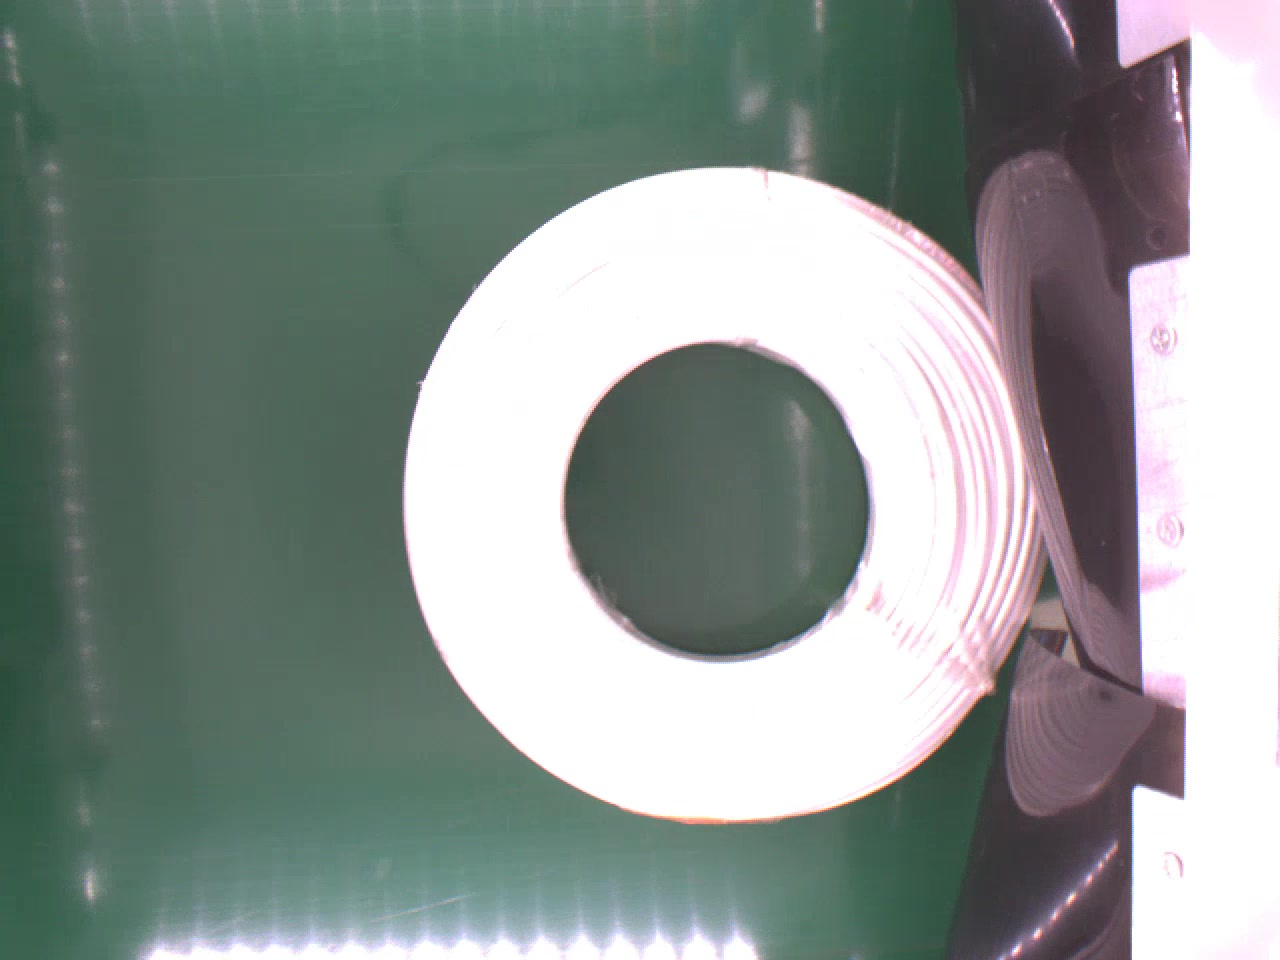white: (397, 162, 1050, 822)
